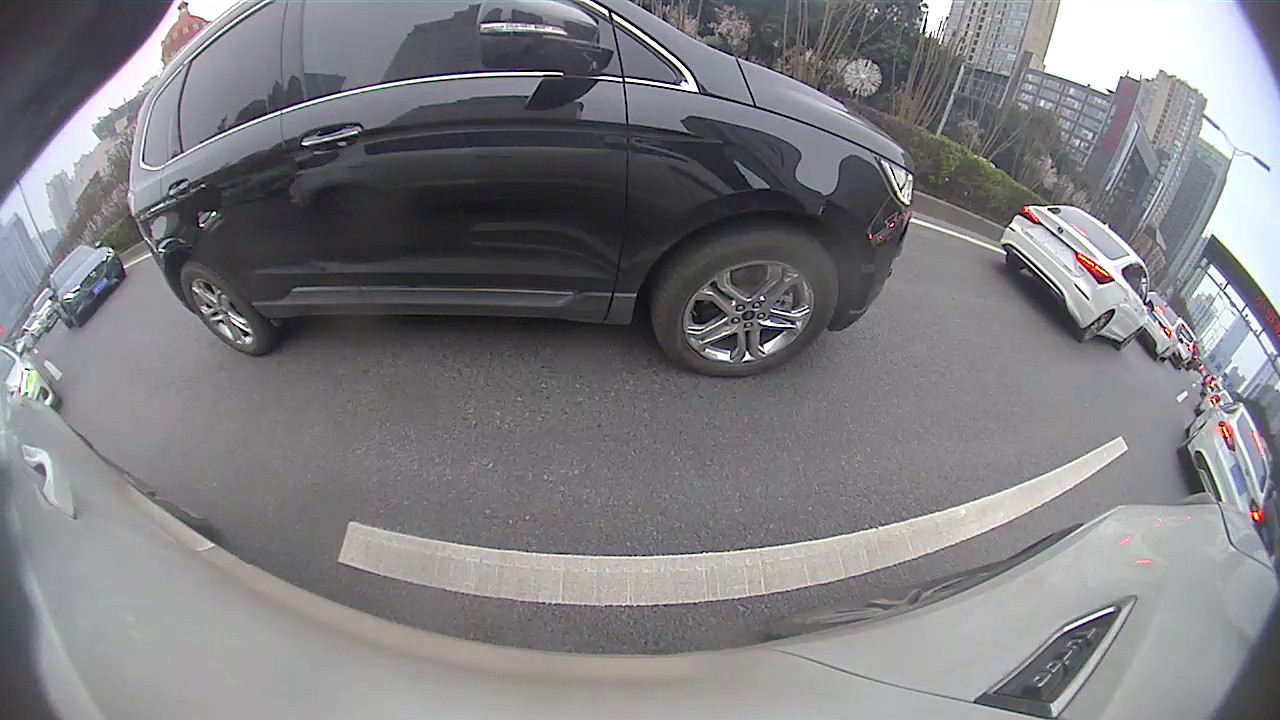car: (126, 1, 917, 380), (999, 202, 1155, 351), (1176, 395, 1275, 527), (46, 239, 127, 331)
front: (651, 226, 840, 382), (1118, 330, 1141, 352)
rear: (179, 263, 271, 358), (1081, 311, 1115, 344)
